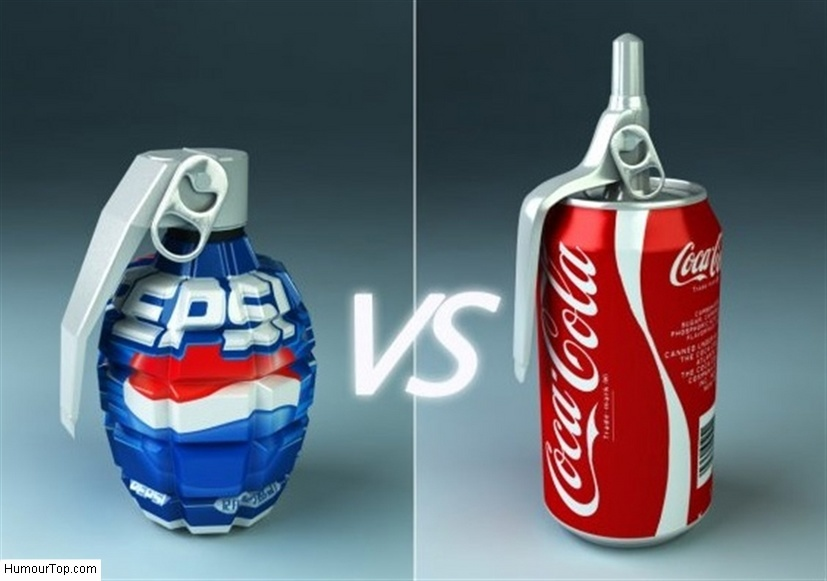pepsi: (120, 333, 297, 495)
